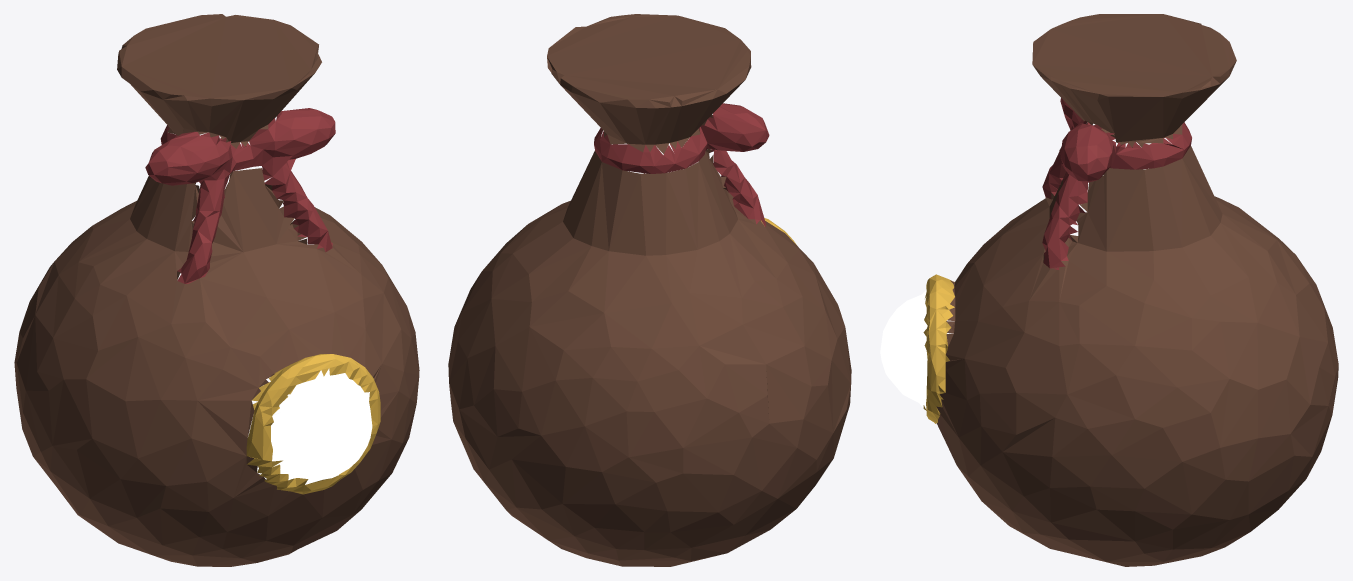
Rendered from pickup_parcel.glb.
The picture shows the model from 3 angles, left to right: view 1: azimuth 30°, elevation 25°; view 2: azimuth 150°, elevation 25°; view 3: azimuth 270°, elevation 25°; orthographic projection.
Visible parts, largest first — view 1: pickup_parcel; view 2: pickup_parcel; view 3: pickup_parcel.
Boxes of the visible parts, x1,y1,x2,y2 form: pickup_parcel: [14, 14, 419, 566]; pickup_parcel: [448, 14, 851, 566]; pickup_parcel: [880, 14, 1338, 566].
Bounding box in the file's own units: 0.2972 × 0.3997 × 0.3363.
